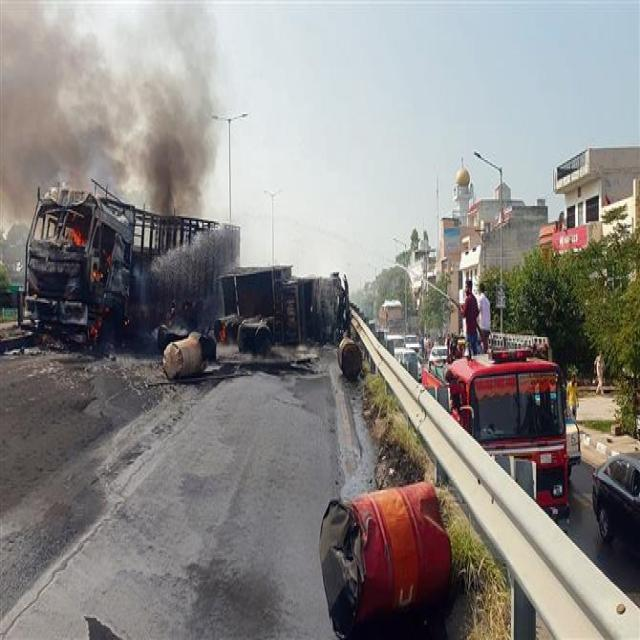accident: (25, 187, 240, 342), (276, 272, 350, 344)
car: (592, 451, 640, 560), (406, 335, 422, 353)
emergency: (422, 334, 569, 517)
truck: (379, 300, 405, 327)
